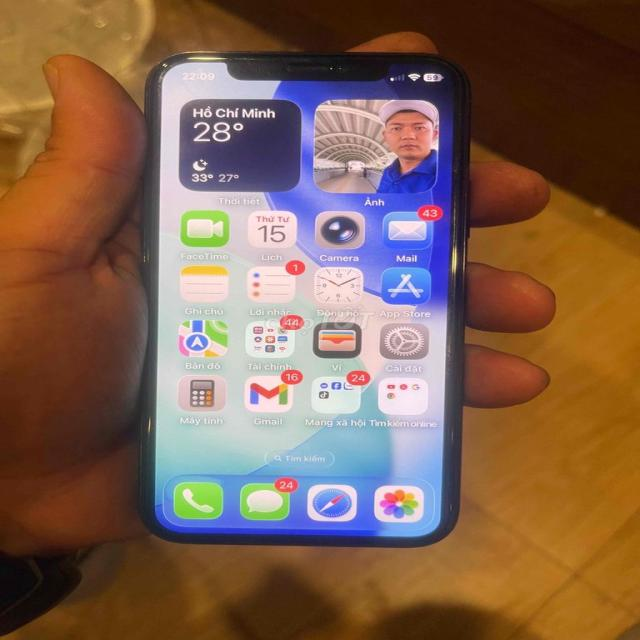gen_11: (138, 44, 490, 562)
